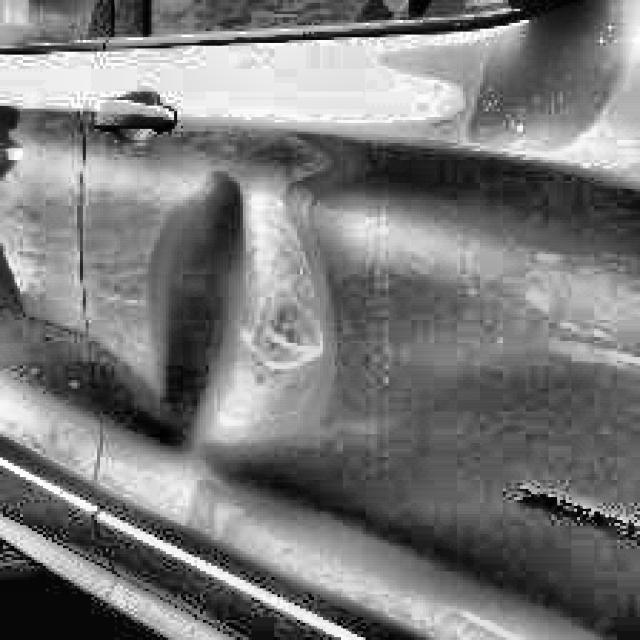door_dent: (152, 173, 338, 474)
